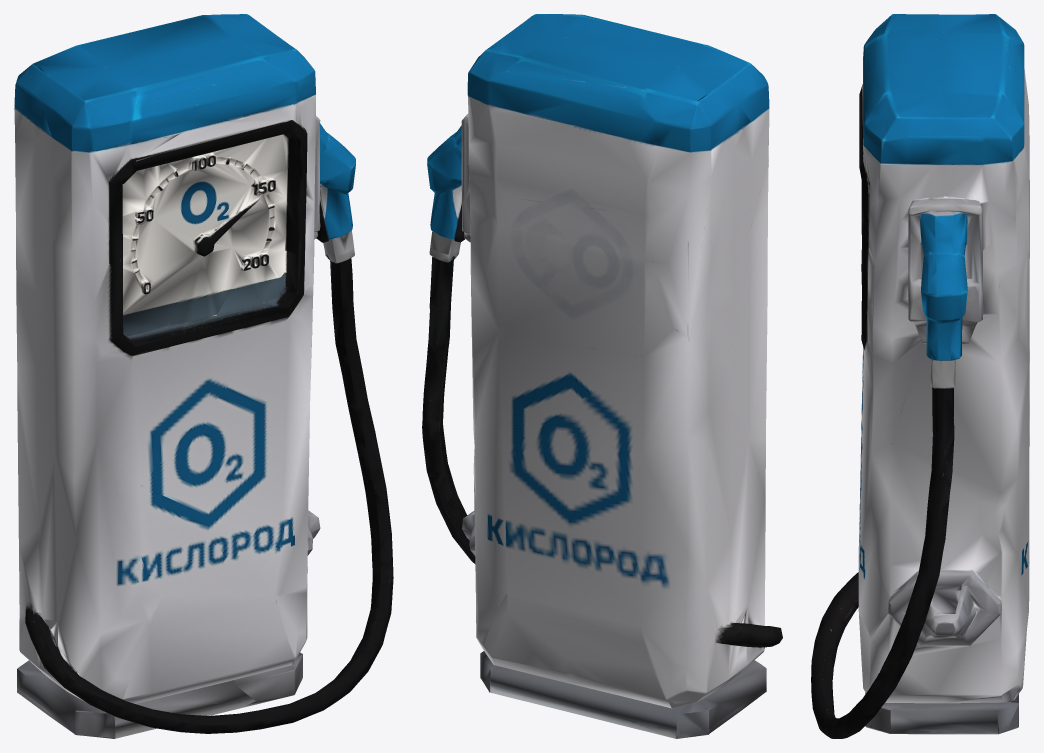
3 renders of one model, left to right at view 1: azimuth 30°, elevation 25°; view 2: azimuth 150°, elevation 25°; view 3: azimuth 270°, elevation 25°, orthographic.
Visible parts, largest first — view 1: Mesh_0.001; view 2: Mesh_0.001; view 3: Mesh_0.001.
Part boxes in pixels (bbox=[...]): Mesh_0.001: bbox=[14, 14, 393, 738]; Mesh_0.001: bbox=[422, 14, 782, 738]; Mesh_0.001: bbox=[811, 14, 1029, 738].
Size of the model in its own units: 0.8446 by 1.5 by 0.4736.
Materials: 1 (1 with a texture image).
